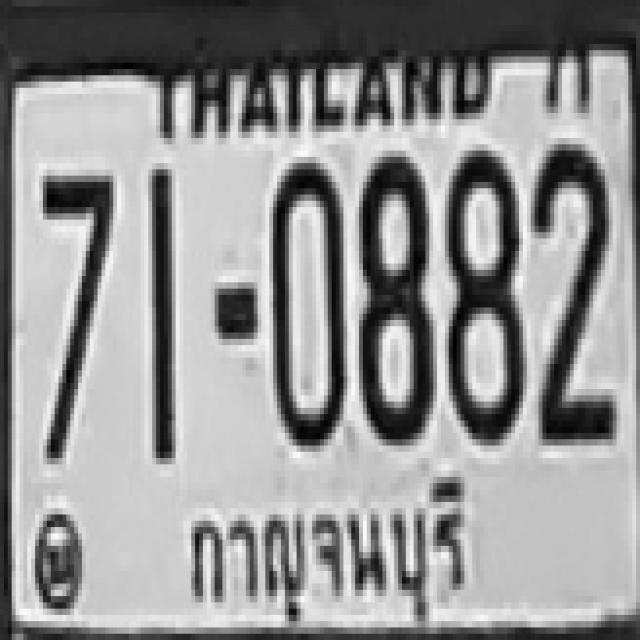0: (272, 157, 342, 439)
1: (148, 163, 172, 458)
2: (531, 138, 609, 439)
7: (39, 169, 109, 458), (39, 169, 109, 427)
8: (445, 144, 519, 440), (355, 151, 429, 439)
Kanchanaburi: (180, 476, 477, 637)
